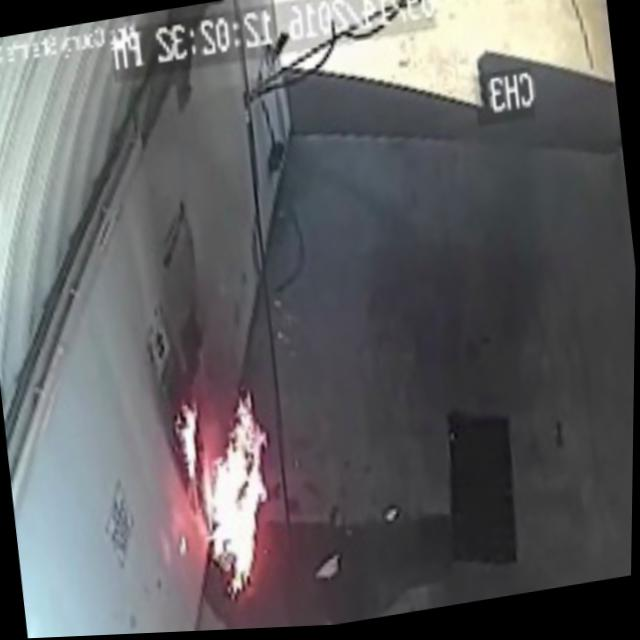fire: (169, 396, 276, 607)
